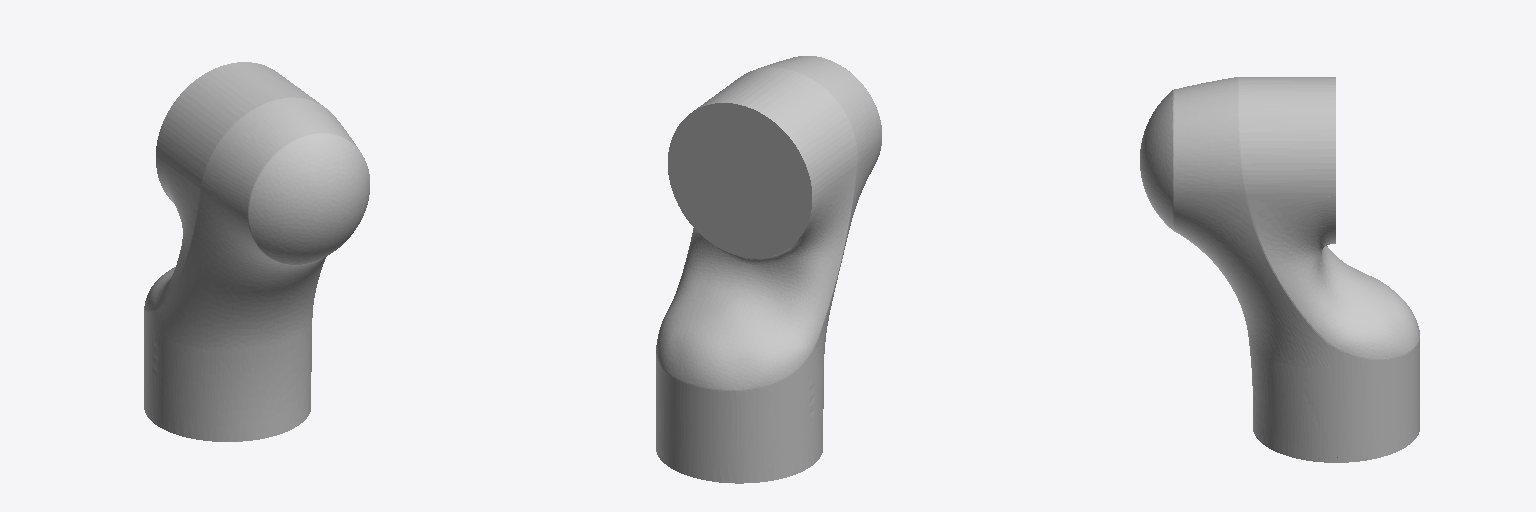
The picture shows the model from 3 angles: view 1: azimuth 30°, elevation 25°; view 2: azimuth 150°, elevation 25°; view 3: azimuth 270°, elevation 25°; orthographic projection.
Visible parts, largest first — view 1: Part__Feature024-mesh; view 2: Part__Feature024-mesh; view 3: Part__Feature024-mesh.
Part boxes in pixels (left/top/right/bottom): Part__Feature024-mesh: left=144, top=62, right=369, bottom=441; Part__Feature024-mesh: left=656, top=56, right=881, bottom=483; Part__Feature024-mesh: left=1140, top=77, right=1419, bottom=462.
Bounding box in the file's own units: 0.11 × 0.249 × 0.1844.